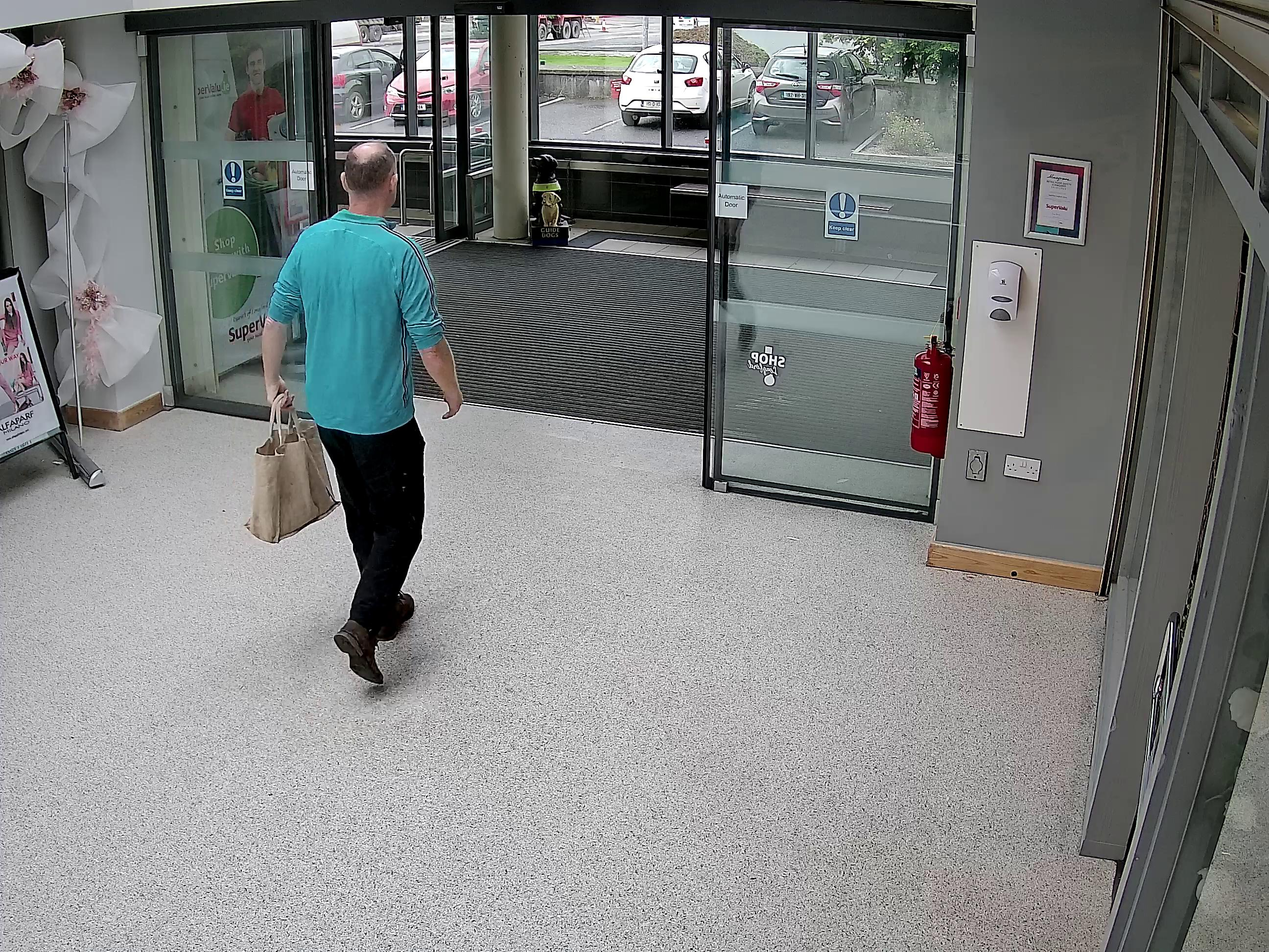filled-shopping-bags: (244, 402, 342, 544)
person: (262, 140, 465, 685)
person-with-filled-shopping-bag-s-: (245, 139, 465, 684)
